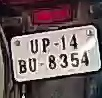1: (60, 34, 68, 53)
3: (59, 53, 68, 71)
4: (68, 32, 82, 53), (81, 50, 91, 67)
5: (68, 51, 80, 71)
8: (48, 53, 57, 73)
B: (17, 58, 27, 75)
P: (42, 36, 50, 55)
U: (28, 38, 40, 54), (27, 56, 38, 73)
